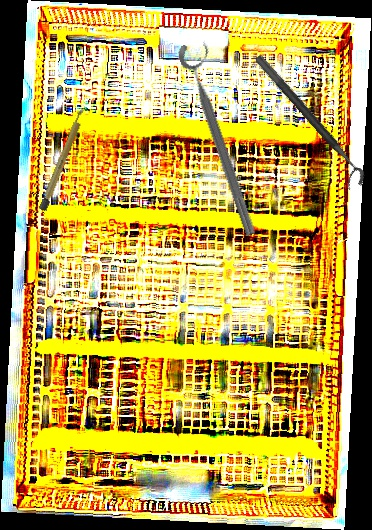Fixation Ring: (175, 37, 272, 239), (243, 53, 371, 194)
Scalpel Handle: (38, 106, 88, 212)
